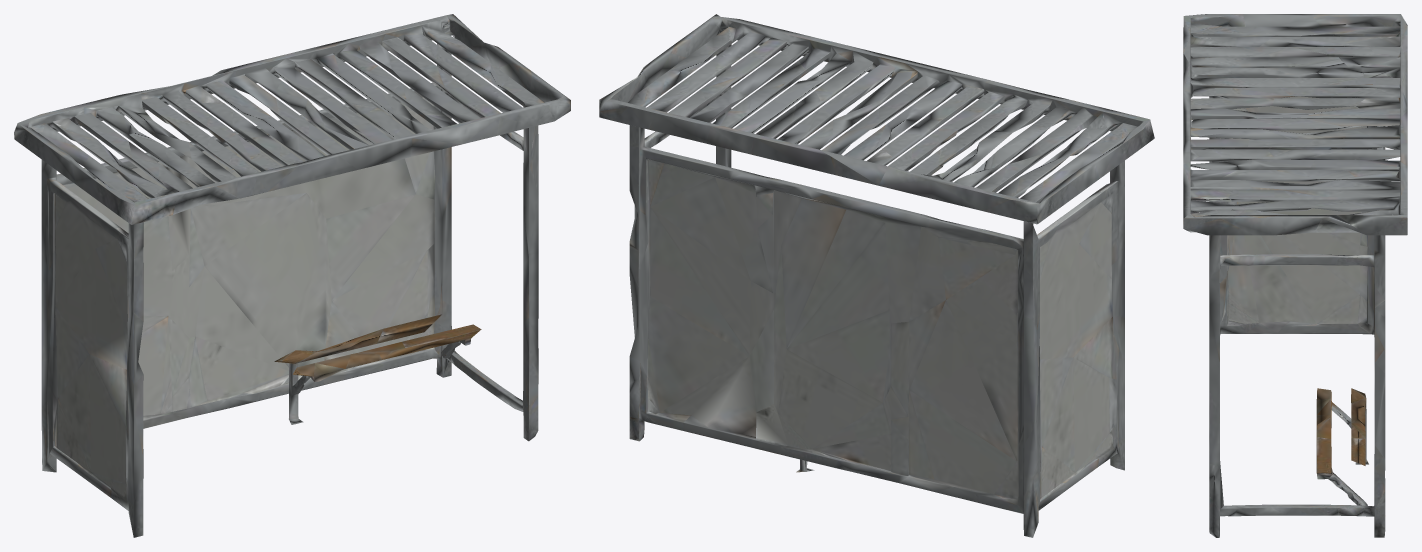
File: abribus.glb
3 views of the same model, side by side, from view 1: azimuth 30°, elevation 25°; view 2: azimuth 150°, elevation 25°; view 3: azimuth 270°, elevation 25° (orthographic). The views are drawn at different scales.
Size of the model in its own units: 1.9 by 1.43 by 0.884.
Materials: 1 (1 with a texture image).
